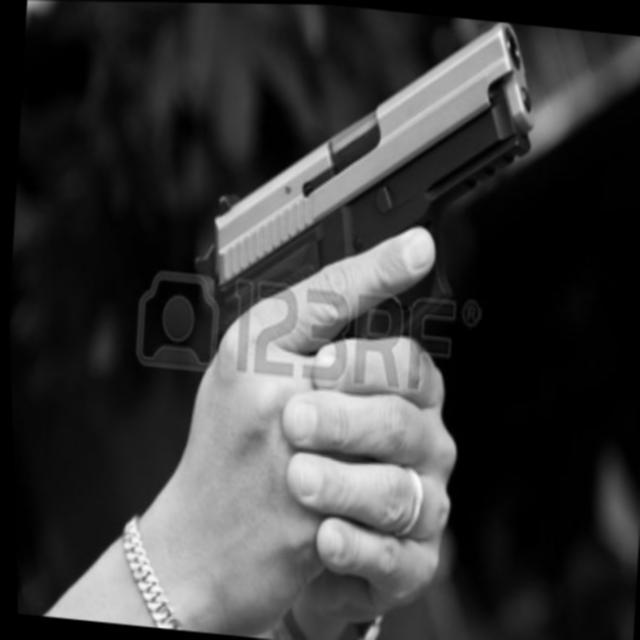weapon: (158, 2, 543, 451)
